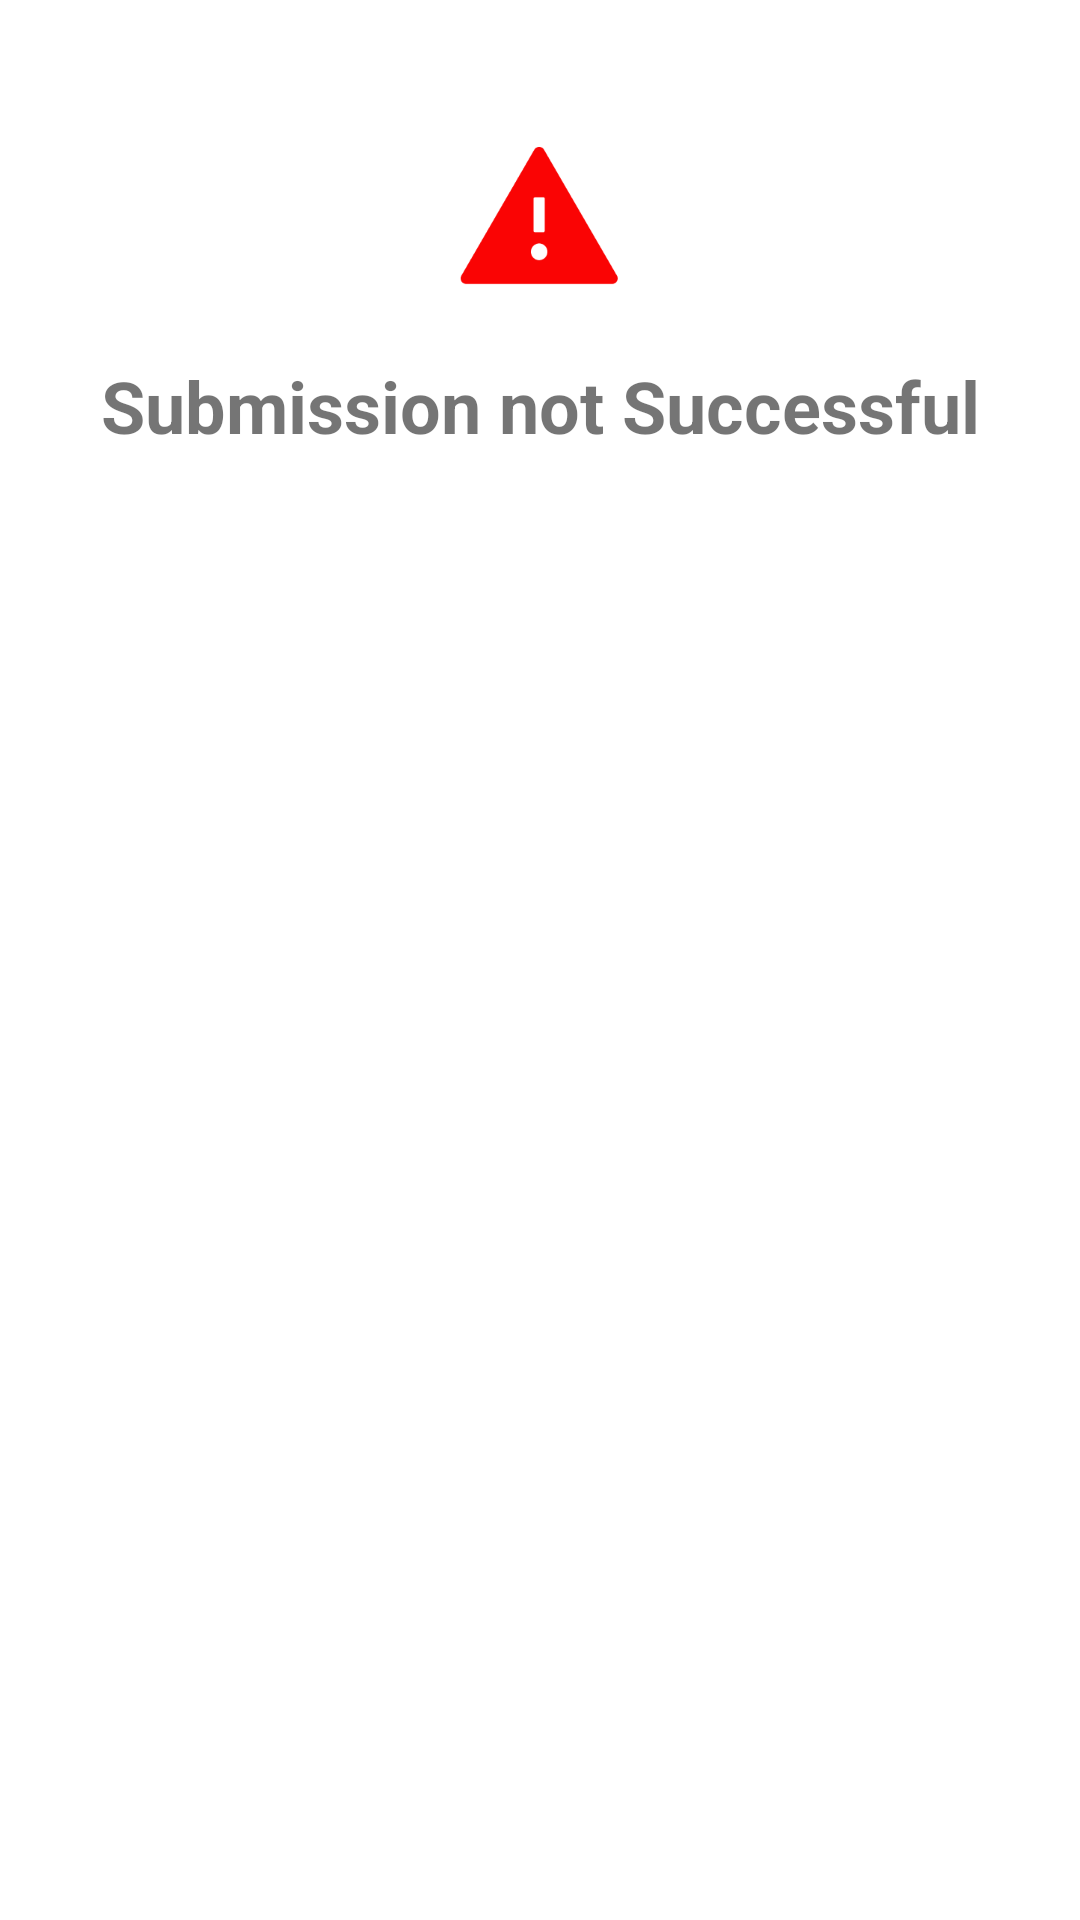

Icons on this 1080px x 1920px Android screen, each with the point to tap as [x,y]:
failure: [539,215]
